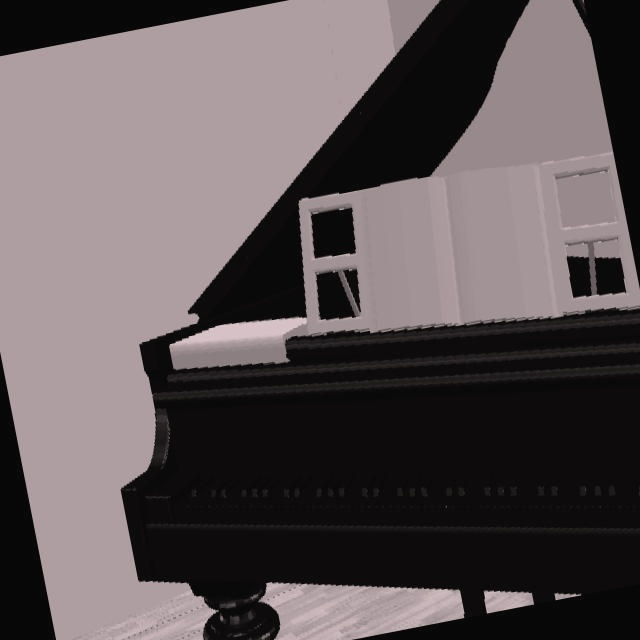book: (365, 166, 558, 329), (170, 318, 304, 370)
